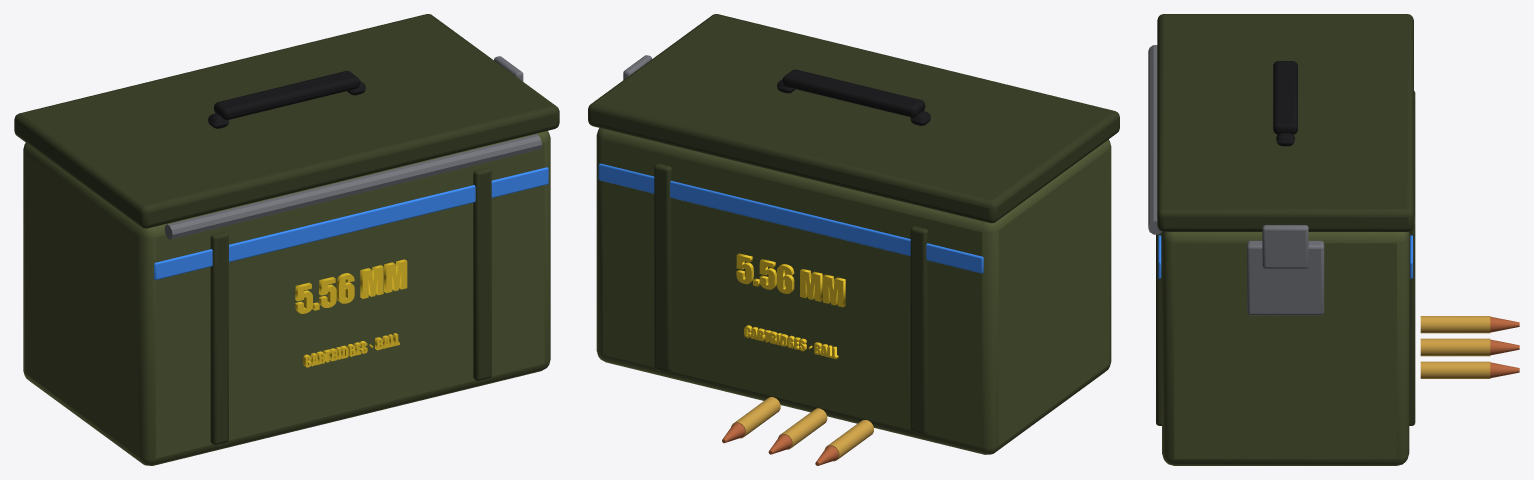
The model's file is municion_2.glb.
The picture shows the model from 3 angles, left to right: view 1: azimuth 30°, elevation 25°; view 2: azimuth 150°, elevation 25°; view 3: azimuth 270°, elevation 25°; orthographic projection. The views are drawn at different scales.
Visible parts, largest first — view 1: Cube; view 2: Cube; view 3: Cube.
Boxes of the visible parts, bbox=[...] form: Cube: bbox=[14, 14, 559, 465]; Cube: bbox=[588, 14, 1119, 465]; Cube: bbox=[1148, 14, 1519, 465].
Size of the model in its own units: 0.318 by 0.2 by 0.2406.
